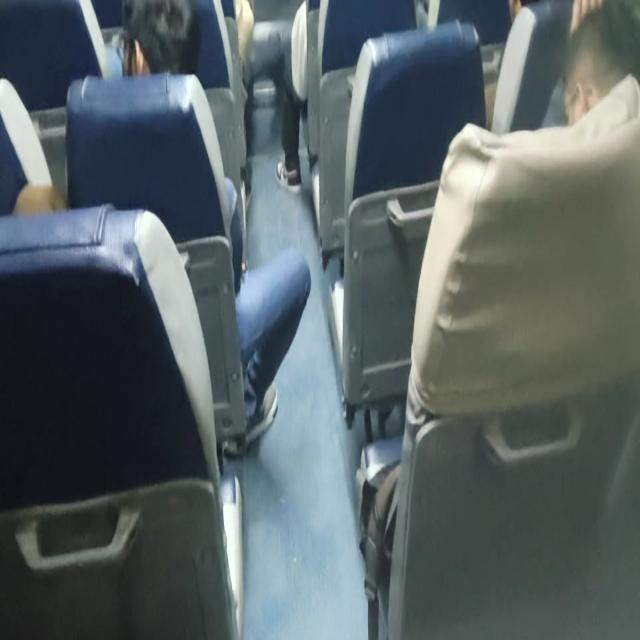person: (552, 0, 640, 136), (122, 0, 206, 93)
